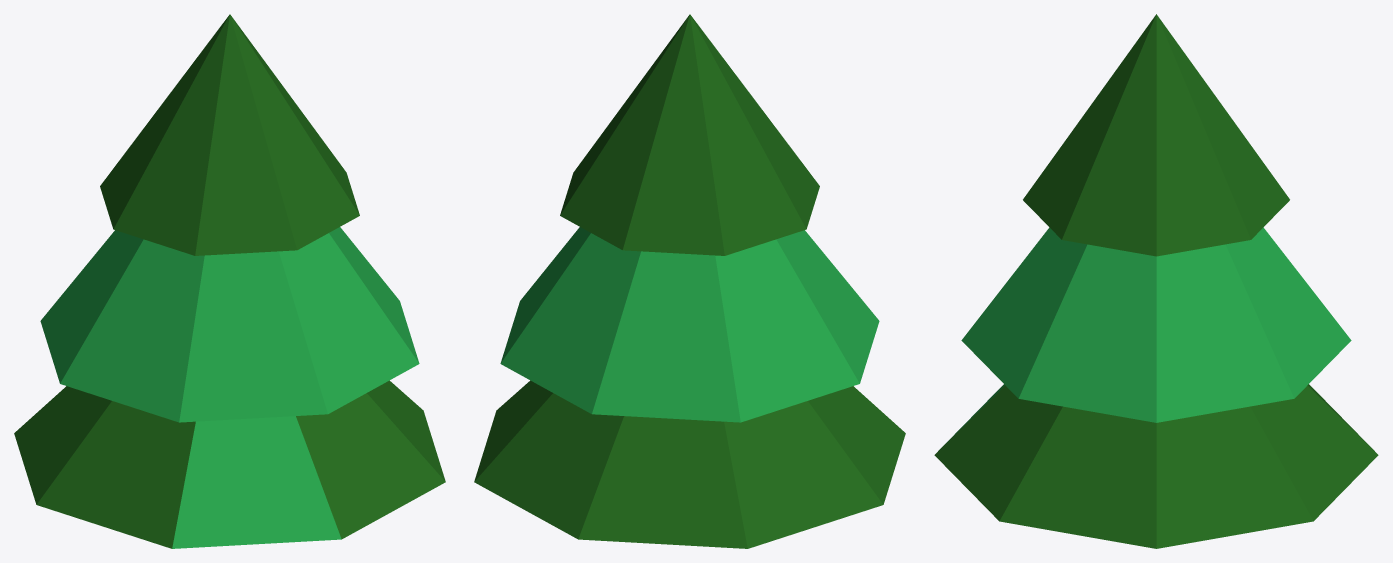
File: arbol1.fbx
3 renders of one model, left to right at view 1: azimuth 30°, elevation 25°; view 2: azimuth 150°, elevation 25°; view 3: azimuth 270°, elevation 25°, orthographic.
Parts seen in each view (by area): view 1: Cylinder.001; view 2: Cylinder.001; view 3: Cylinder.001.
Part boxes in pixels (left/top/right/bottom): Cylinder.001: left=14, top=14, right=445, bottom=548; Cylinder.001: left=474, top=14, right=905, bottom=548; Cylinder.001: left=934, top=14, right=1378, bottom=548.
Size of the model in its own units: 556 by 694 by 556.
